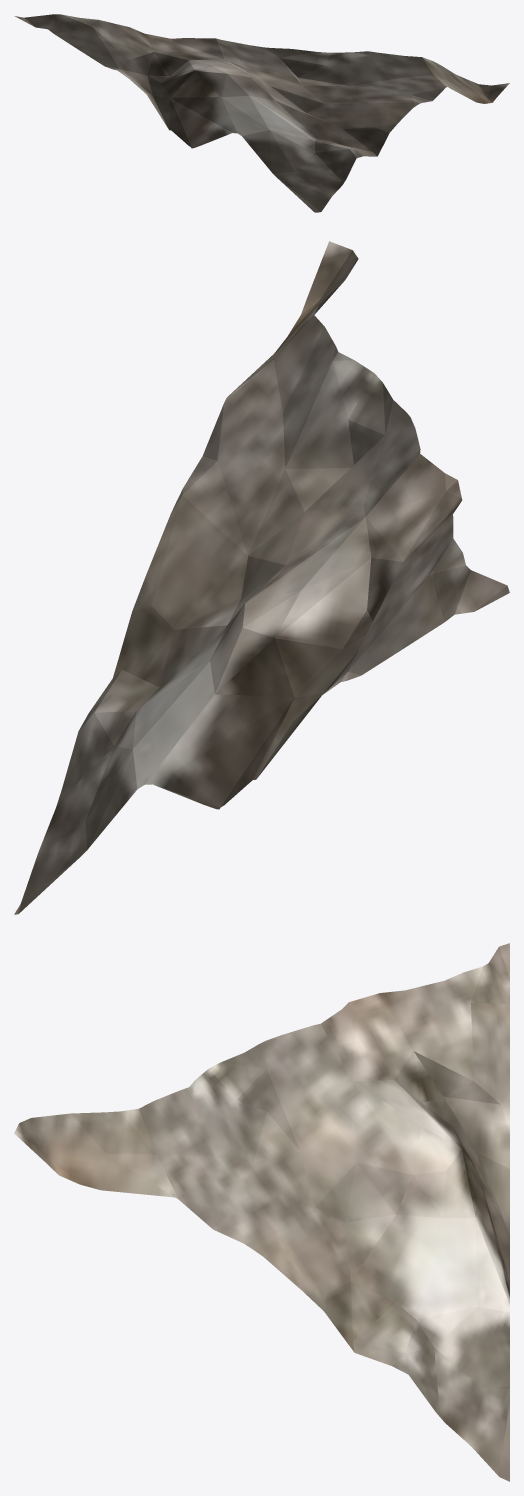
3 views of the same model, one above another, from view 1: azimuth 30°, elevation 25°; view 2: azimuth 150°, elevation 25°; view 3: azimuth 270°, elevation 25° (orthographic). The views are drawn at different scales.
Bounding box in the file's own units: 0.8053 × 0.6872 × 0.8864.
Materials: 1 (1 with a texture image).
